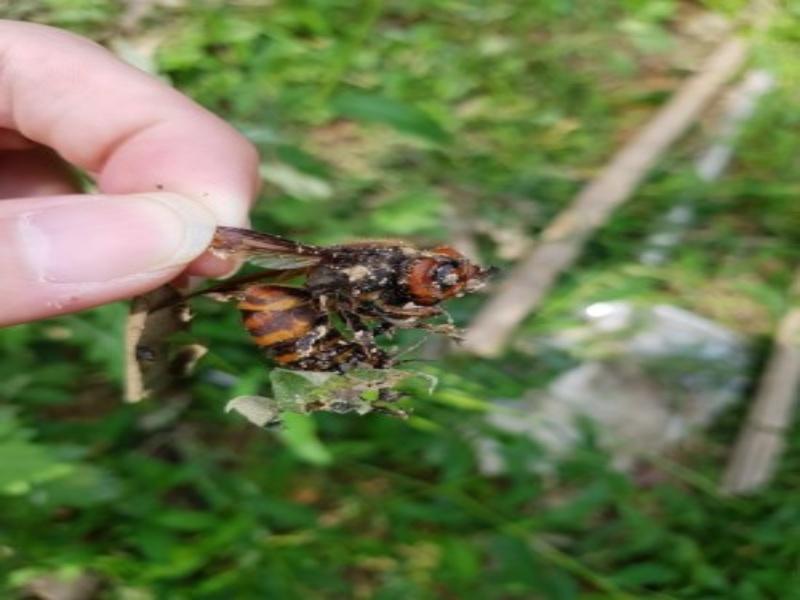asian_giant_hornet: (221, 230, 501, 417)
